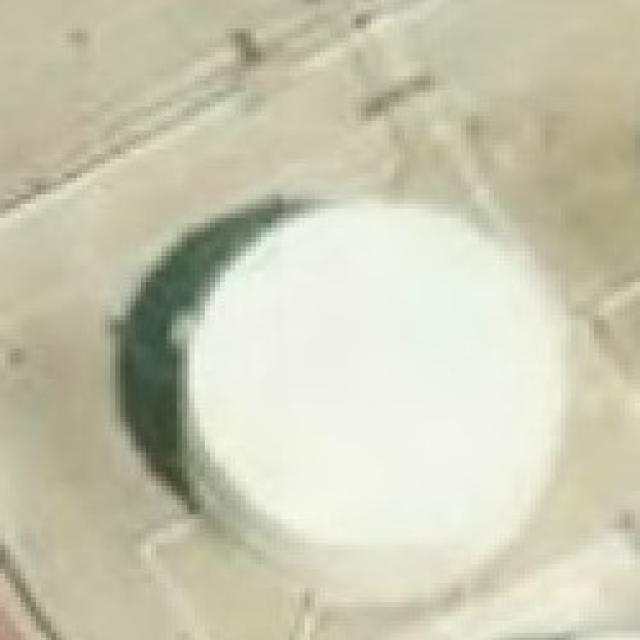Batiment: (189, 207, 566, 579)
